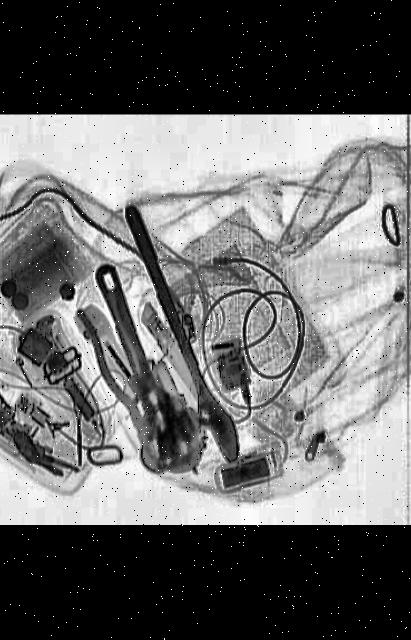Pliers: (74, 288, 186, 461)
Wrench: (111, 203, 250, 470)
